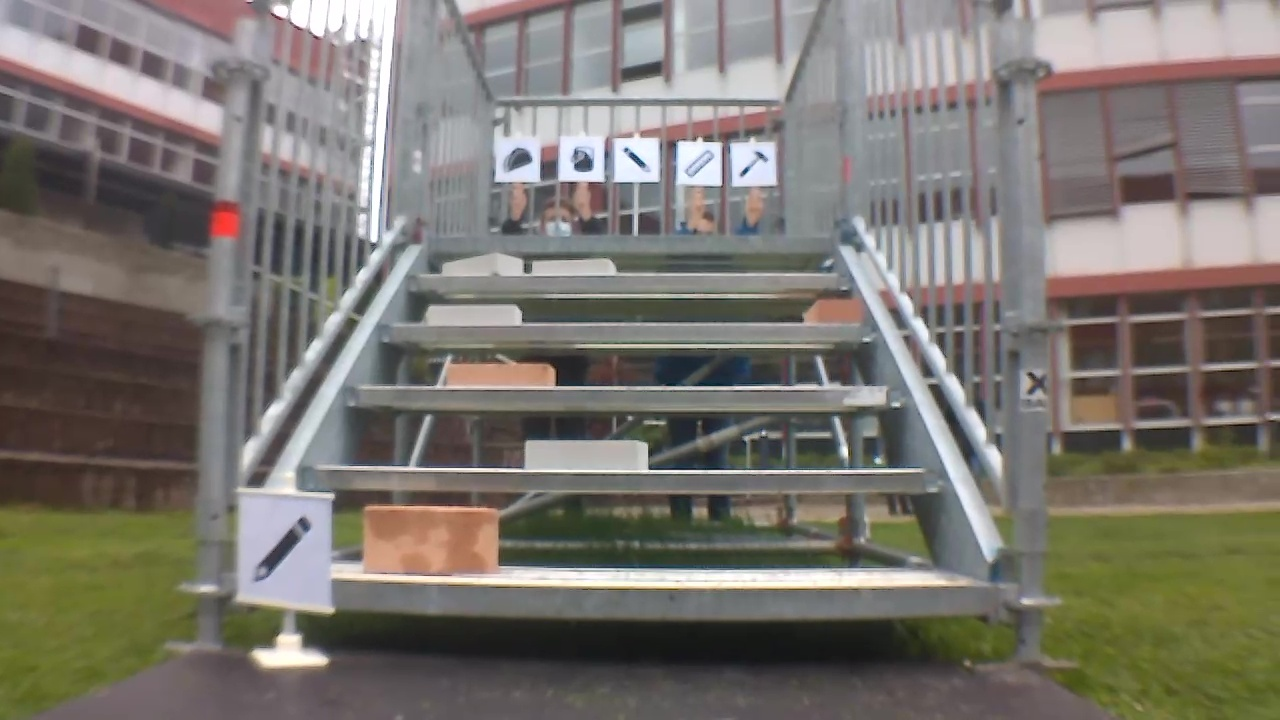brick: (364, 506, 497, 575), (525, 439, 646, 472), (449, 364, 553, 386), (430, 305, 519, 323), (443, 254, 522, 273), (533, 258, 615, 274)
bucket: (566, 142, 599, 175)
edge: (240, 576, 990, 622), (312, 468, 942, 492), (348, 386, 903, 408), (382, 323, 873, 339), (407, 273, 852, 290), (429, 235, 831, 250)
hammer: (734, 146, 770, 181)
pencil: (618, 140, 652, 177)
ruler: (683, 144, 716, 183)
stairs: (189, 3, 1057, 670)
steps: (230, 229, 995, 633)
taco: (501, 140, 533, 175)
